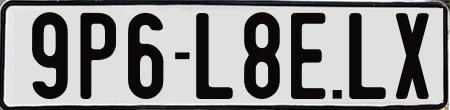6: (128, 10, 165, 102)
8: (242, 10, 284, 98)
9: (32, 9, 74, 100)
E: (288, 13, 323, 105)
L: (348, 12, 391, 101), (195, 10, 237, 98)
P: (79, 13, 116, 100)
X: (395, 10, 431, 96)
